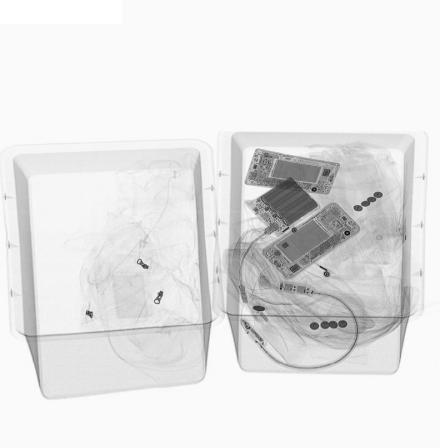Powerbank: (247, 174, 323, 237)
